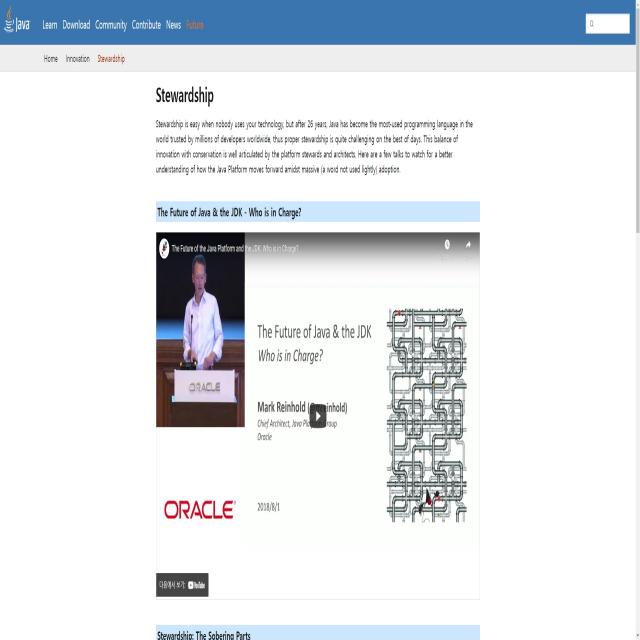menu-bar: (36, 8, 208, 42)
search: (584, 10, 632, 41)
tab-bar: (41, 49, 126, 65)
